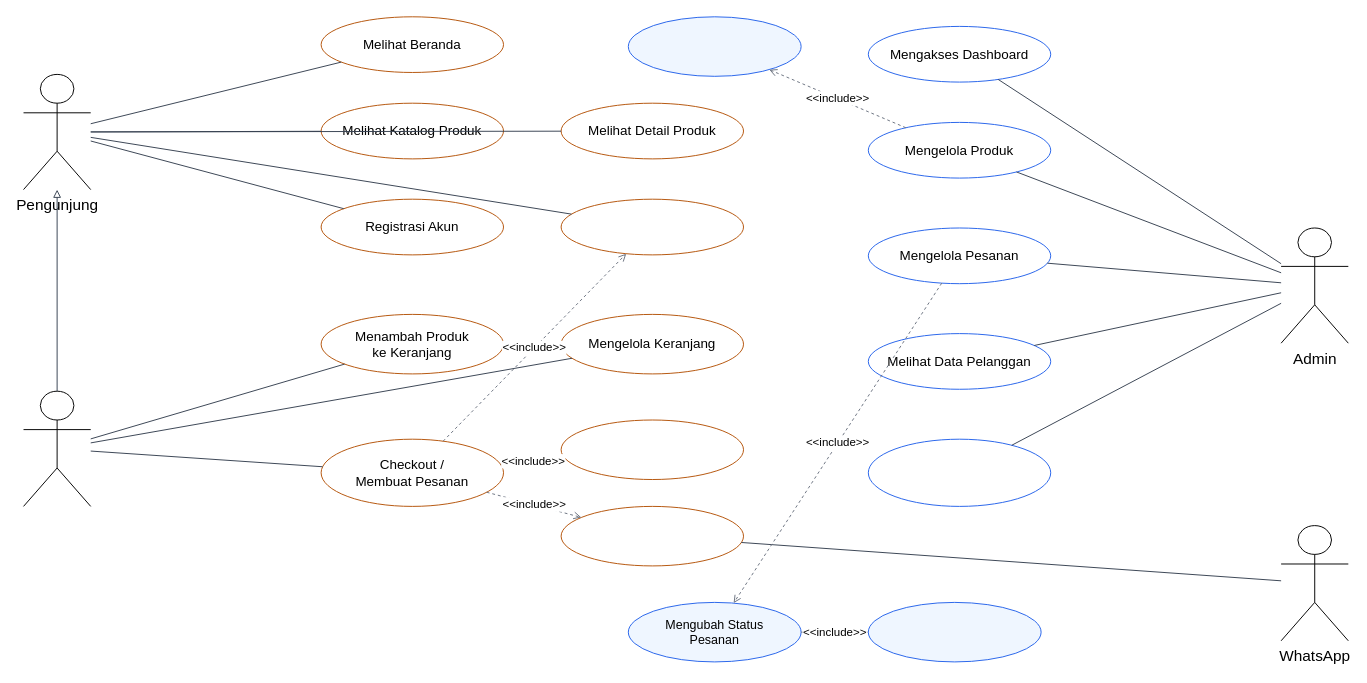
Some shapes in this 1367 by 683 pixel diagram are drawn without their labels. The shapes that lost their labels are listed below. From the top down, each one's centre as x and y in pixels, then its label:
the point at 714,46: Tambah / Edit / Hapus Produk
the point at 652,226: Login
the point at 57,448: Pelanggan
the point at 652,449: Mengisi Informasi Pengiriman
the point at 959,472: Melihat Ringkasan Produk, Pesanan, Omzet
the point at 652,535: Konfirmasi Pesanan via WhatsApp
the point at 954,631: Memperbarui Stok Otomatis
